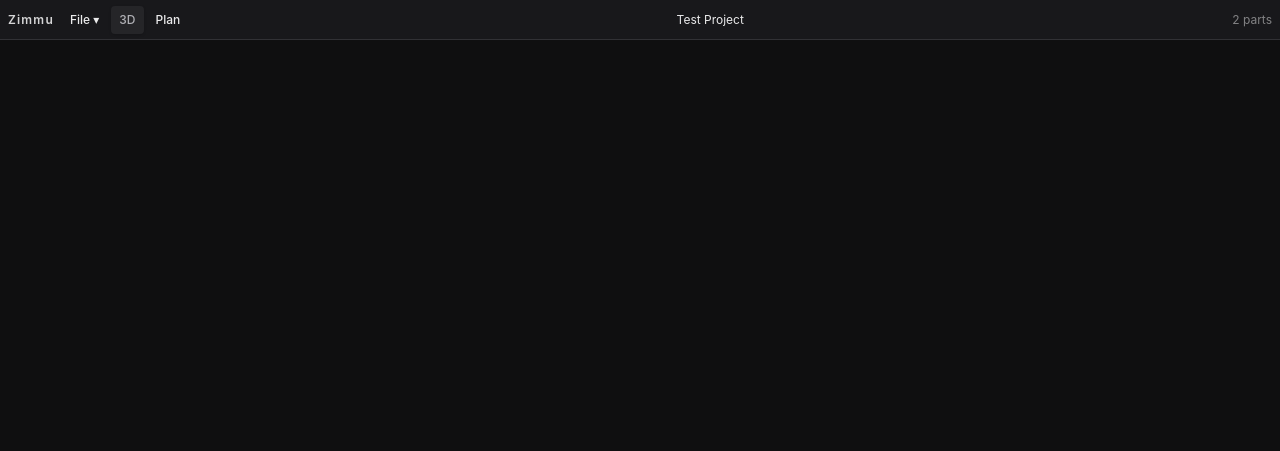
FileMenu › Redo button shows label in quotes: Redo "Add Board 2"
What coordinates should you click on to do the following:
click the button "File ▾"
I would click on:
 (85, 20)
Its box is 62,6 -> 107,34.
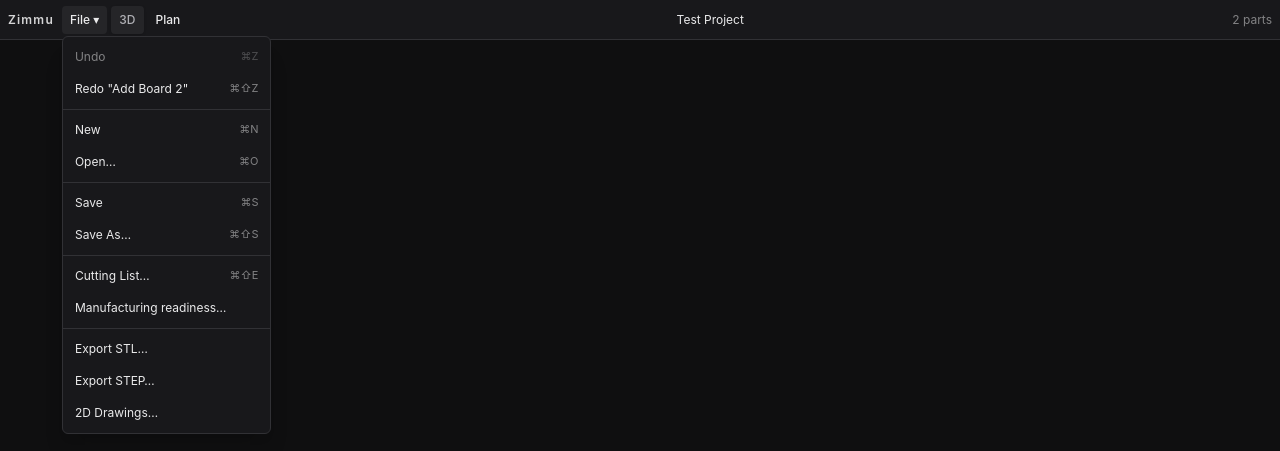
Expected: the button "Redo \"Add Board 2\" ⌘⇧Z" is shown, 63,72 -> 270,104
